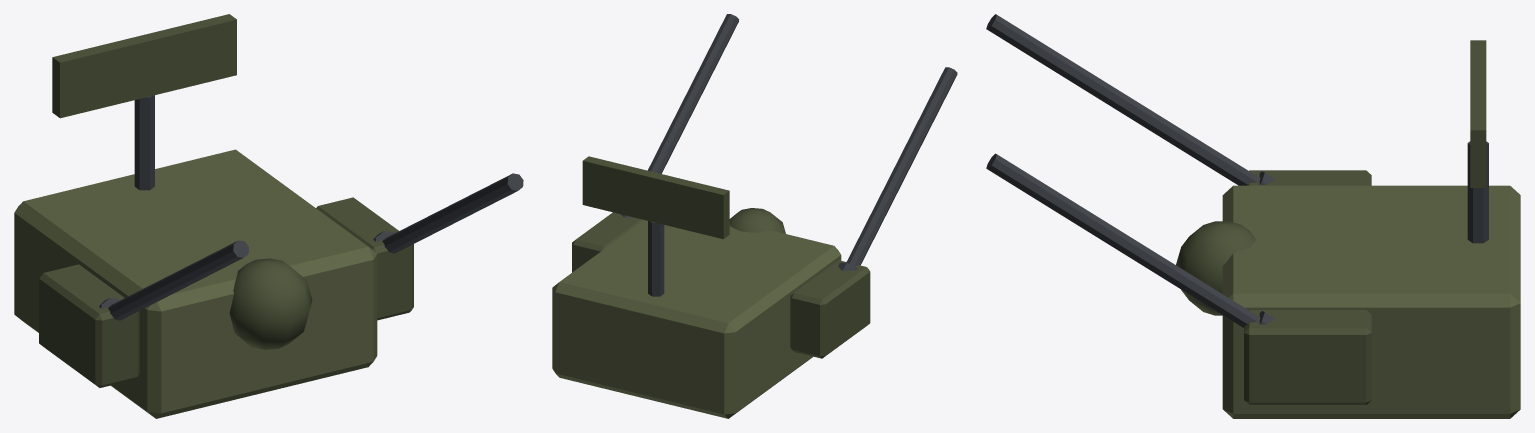
Rendered from aagun_turret.glb.
3 renders of one model, left to right at view 1: azimuth 30°, elevation 25°; view 2: azimuth 150°, elevation 25°; view 3: azimuth 270°, elevation 25°, orthographic. The views are drawn at different scales.
Parts seen in each view (by area): view 1: aagun_turret; view 2: aagun_turret; view 3: aagun_turret.
Part boxes in pixels (box(x1,y1,x2,y2)): aagun_turret: box(14, 14, 523, 418); aagun_turret: box(552, 14, 957, 418); aagun_turret: box(986, 14, 1520, 418).
Size of the model in its own units: 3.6 by 2.91 by 5.02.
